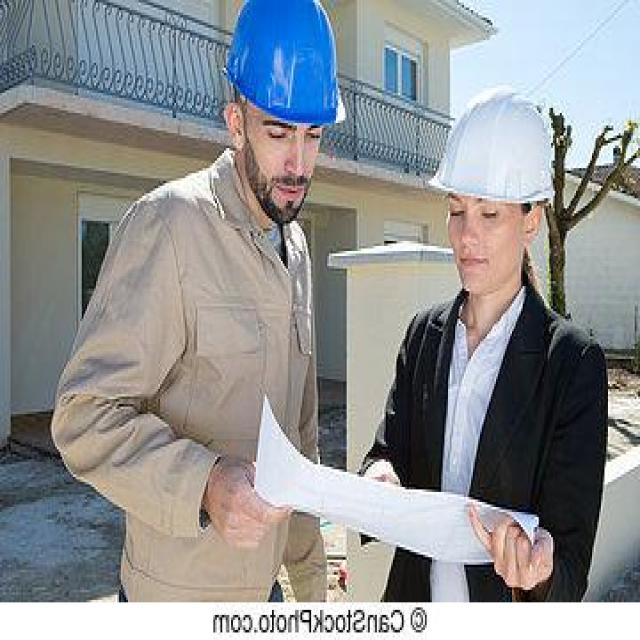Safety-Helmet: (423, 80, 560, 218), (219, 3, 345, 133)
